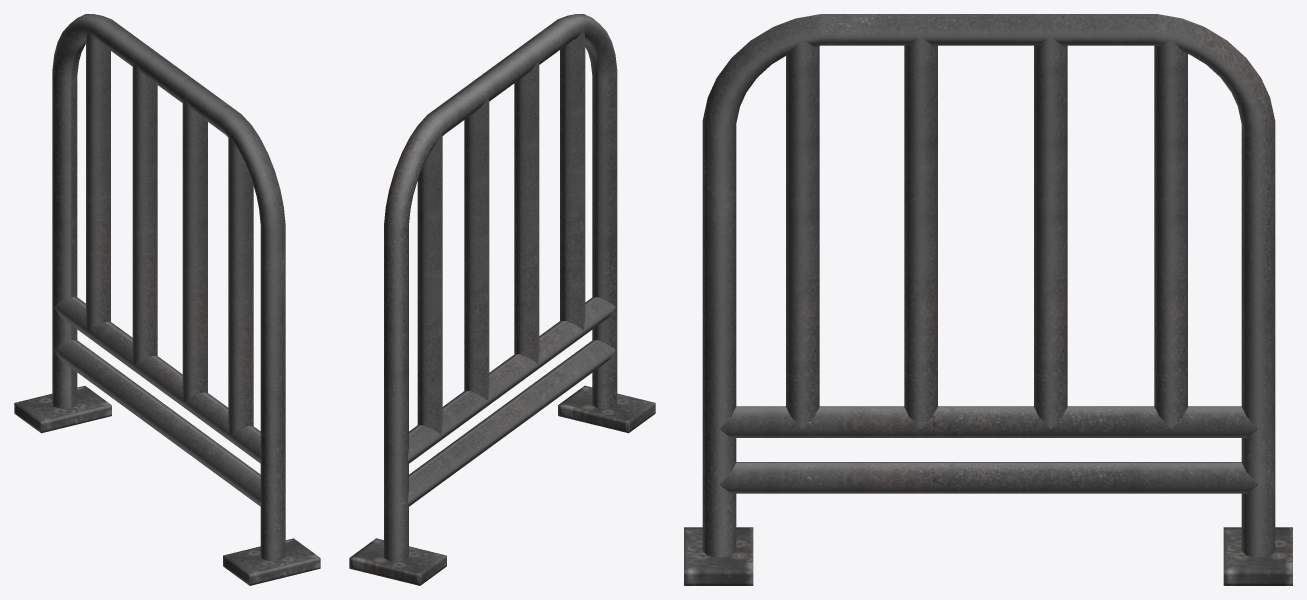
File: SM_BarrierSmall.FBX
3 views of the same model, side by side, from view 1: azimuth 30°, elevation 25°; view 2: azimuth 150°, elevation 25°; view 3: azimuth 270°, elevation 25° (orthographic). The views are drawn at different scales.
Parts seen in each view (by area): view 1: SM_BarrierSmall; view 2: SM_BarrierSmall; view 3: SM_BarrierSmall.
Boxes of the visible parts, bbox=[...] form: SM_BarrierSmall: bbox=[14, 14, 320, 585]; SM_BarrierSmall: bbox=[349, 14, 655, 585]; SM_BarrierSmall: bbox=[684, 14, 1292, 585].
Size of the model in its own units: 26.85 by 155 by 154.
